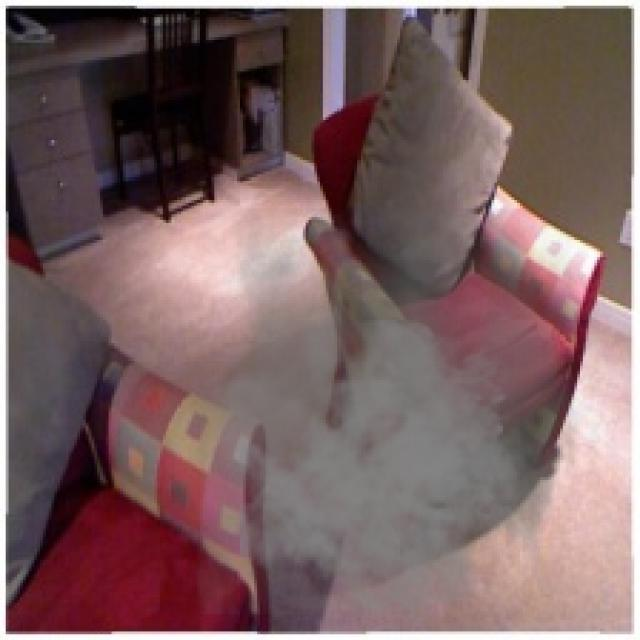Smoke: (197, 208, 580, 628)
